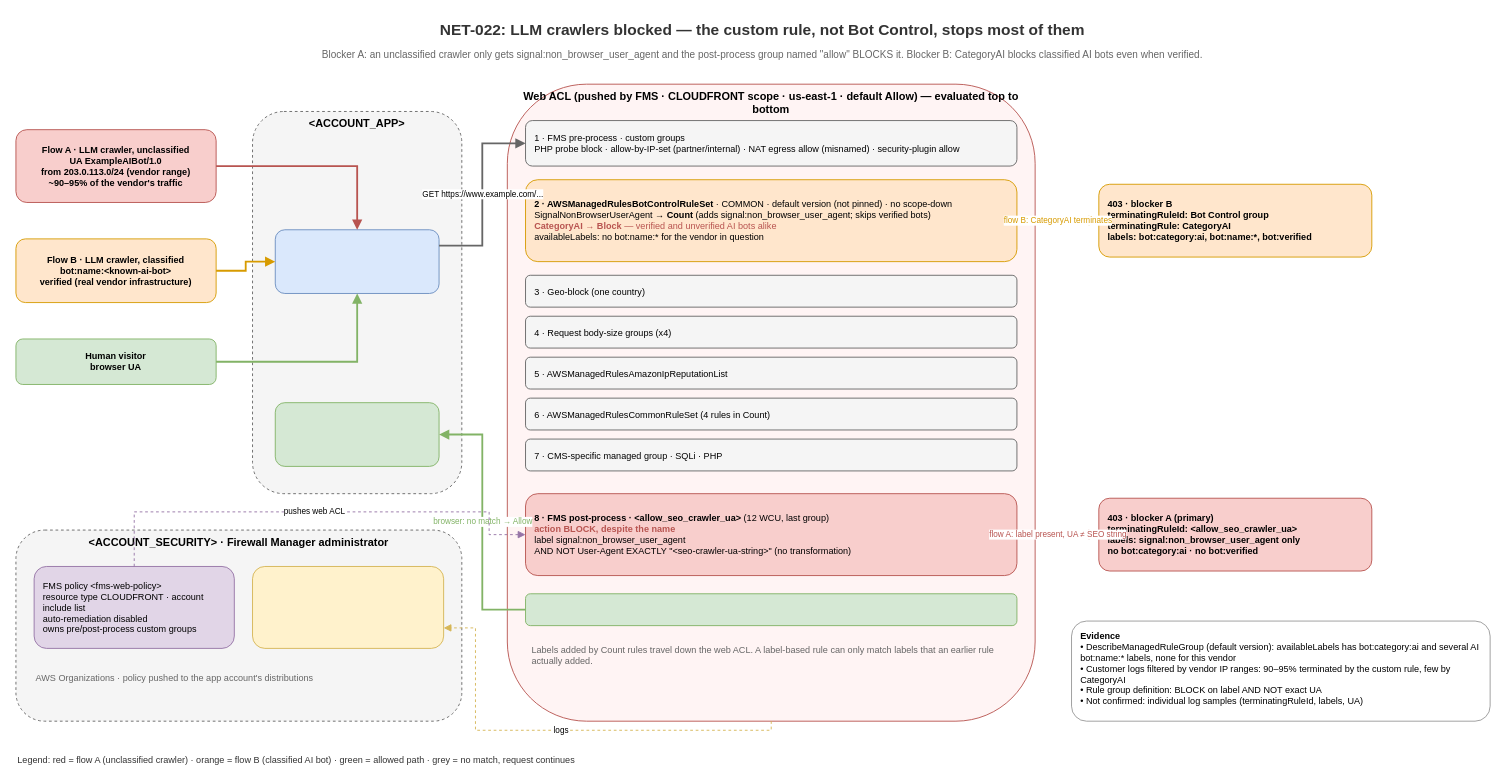
This 1506x782 diagram has some shape labels left out. Here are the shapes that lost their labels. From the top down, the centre of each, then its label:
the point at 356,261: CloudFront www.example.com (FMS policy scope)
the point at 356,434: Origin open-source PHP CMS marketing site
the point at 348,607: S3 bucket aws-waf-logs-* WAF full logs (Athena)
the point at 771,609: default action → Allow
